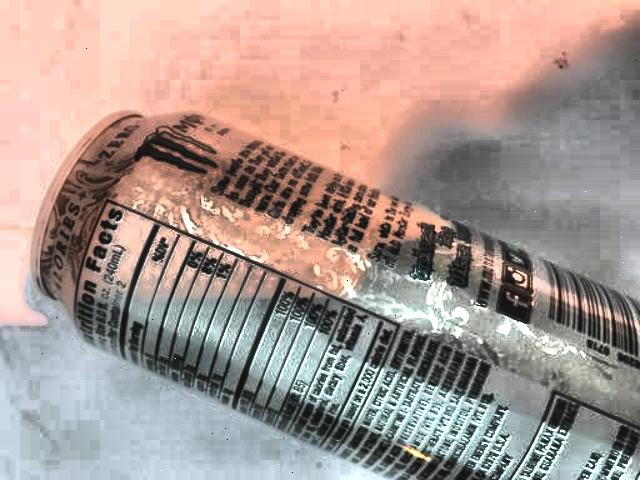Bottles: (18, 91, 640, 480)
